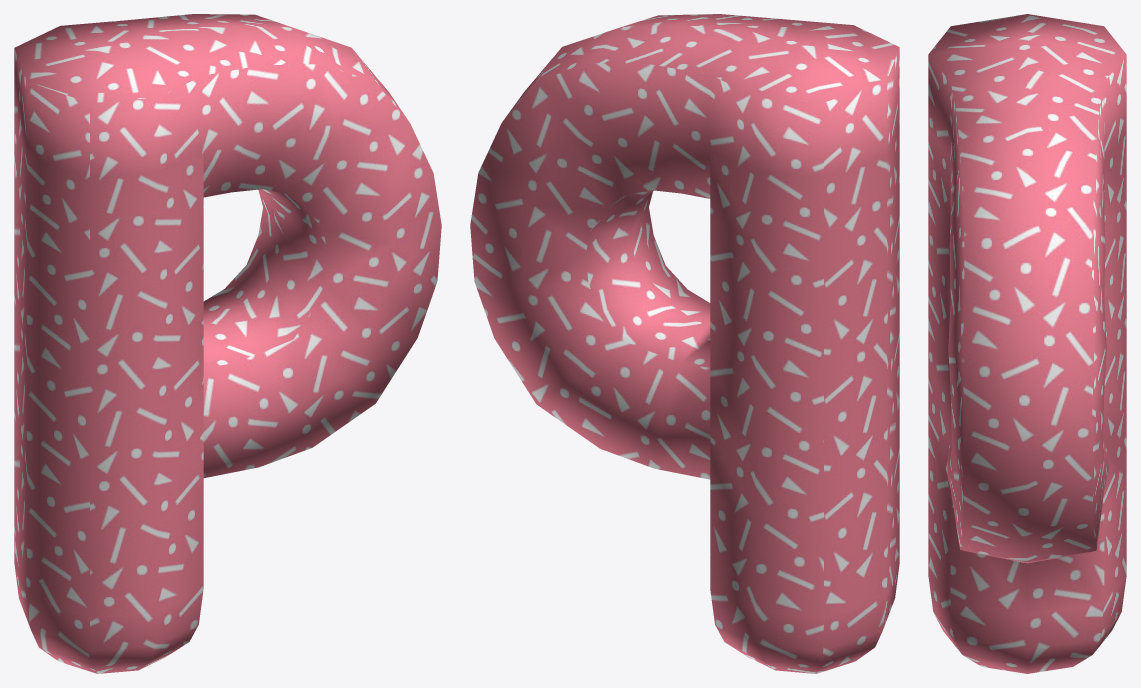
The model's file is P_edit.fbx.
3 views of the same model, side by side, from view 1: azimuth 30°, elevation 25°; view 2: azimuth 150°, elevation 25°; view 3: azimuth 270°, elevation 25° (orthographic).
Visible parts, largest first — view 1: p; view 2: p; view 3: p.
Boxes of the visible parts, x1,y1,x2,y2 form: p: (14, 14, 441, 673); p: (470, 14, 899, 673); p: (928, 14, 1126, 673).
Bounding box in the file's own units: 1.44 × 2.15 × 0.6191.
